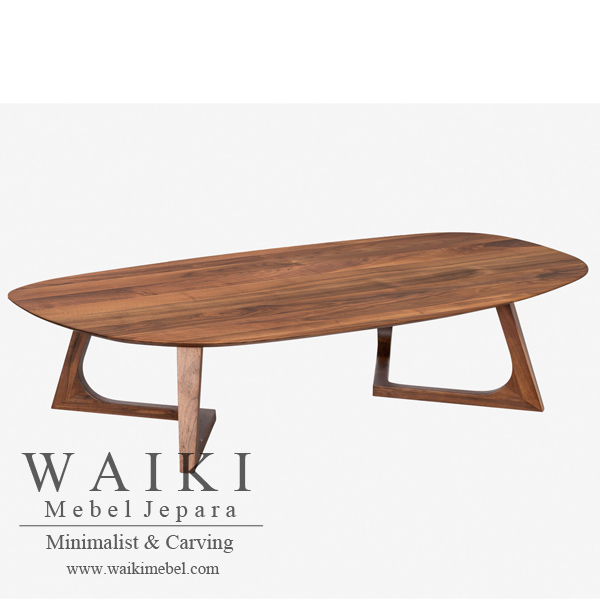Carving Table: (17, 228, 581, 473)
